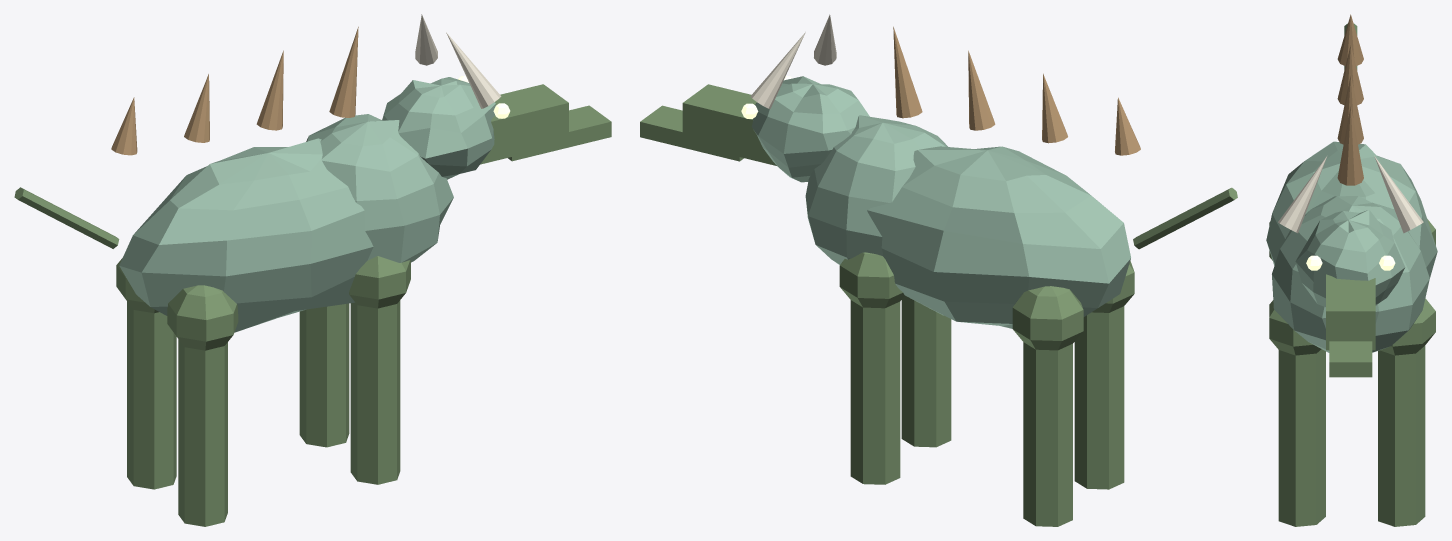
File: drake.glb
3 views of the same model, side by side, from view 1: azimuth 30°, elevation 25°; view 2: azimuth 150°, elevation 25°; view 3: azimuth 270°, elevation 25° (orthographic). The views are drawn at different scales.
Visible parts, largest first — view 1: body, chest, legFR, legBR, legBL, skull, legFL, snoutm, hip.003, hip.001, jaw, tail0 (+6 smaller); view 2: body, chest, legFL, legBL, legBR, skull, legFR, snoutm, hip.002, hip, jaw, tail0 (+7 smaller); view 3: chest, legFL, legFR, skull, body, snoutm, jaw, hip, hip.001, spike, horn, horn.001 (+3 smaller).
Boxes of the visible parts, box(x1,y1,x2,y2) form: body: box(119, 138, 373, 332); chest: box(306, 114, 453, 262); legFR: box(350, 300, 400, 484); legBR: box(178, 339, 227, 526); legBL: box(127, 301, 176, 489); skull: box(382, 77, 495, 179); legFL: box(299, 303, 349, 447); snoutm: box(480, 84, 568, 164); hip.003: box(167, 285, 238, 350); hip.001: box(349, 256, 410, 308); jaw: box(508, 105, 611, 161); tail0: box(14, 187, 119, 248); body: box(867, 146, 1130, 328); chest: box(805, 115, 947, 264); legFL: box(850, 300, 900, 484); legBL: box(1023, 342, 1072, 526); legBR: box(1074, 306, 1124, 489); skull: box(752, 76, 869, 182); legFR: box(901, 295, 951, 447); snoutm: box(682, 84, 776, 165); hip.002: box(1012, 286, 1083, 350); hip: box(839, 252, 904, 308); jaw: box(640, 105, 743, 161); tail0: box(1133, 187, 1237, 249); chest: box(1272, 196, 1429, 352); legFL: box(1378, 345, 1425, 526); legFR: box(1278, 349, 1325, 526); skull: box(1295, 209, 1405, 306); body: box(1266, 141, 1437, 278); snoutm: box(1326, 274, 1375, 350); jaw: box(1329, 341, 1372, 377); hip: box(1380, 298, 1435, 355); hip.001: box(1269, 300, 1321, 355); spike: box(1337, 105, 1363, 185); horn: box(1278, 156, 1326, 233); horn.001: box(1374, 156, 1423, 233).
Size of the model in its own units: 2.42 by 1.69 by 0.632.
